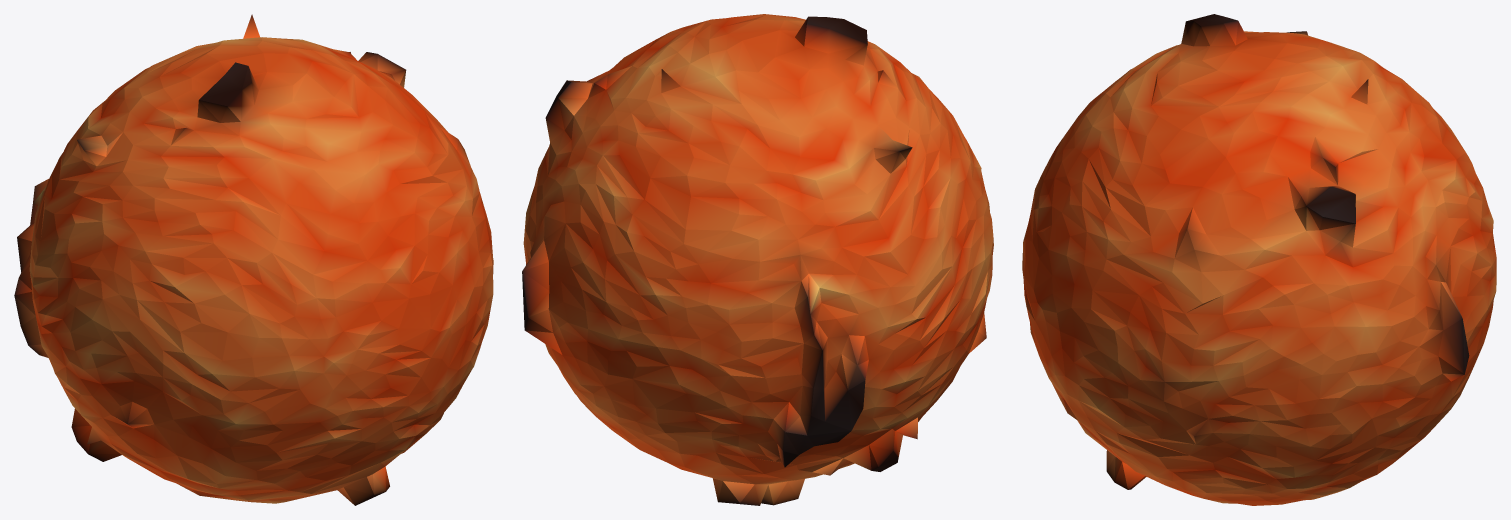
Rendered from barren_29.fbx.
The picture shows the model from 3 angles, left to right: view 1: azimuth 30°, elevation 25°; view 2: azimuth 150°, elevation 25°; view 3: azimuth 270°, elevation 25°; orthographic projection. The views are drawn at different scales.
Parts seen in each view (by area): view 1: filecache1; view 2: filecache1; view 3: filecache1.
Part boxes in pixels (x1,y1,x2,y2): filecache1: (14,14,493,505); filecache1: (522,14,993,505); filecache1: (1022,14,1496,505).
Bounding box in the file's own units: 2.02 × 2.15 × 2.02.
